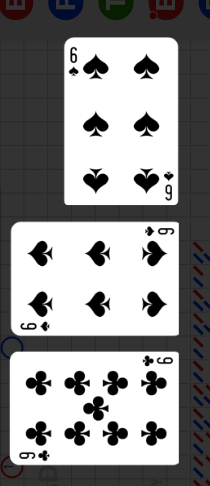6S: (66, 46, 80, 80), (142, 226, 175, 238)
9C: (140, 355, 174, 369)
